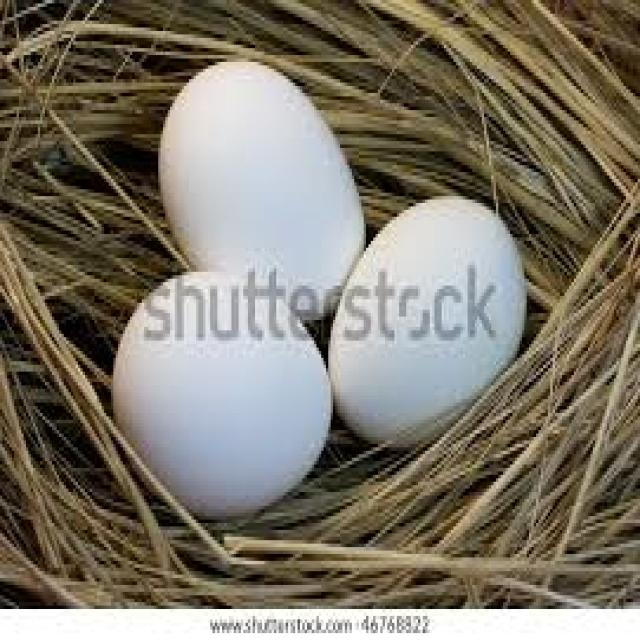White Egg: (156, 52, 364, 304), (115, 278, 334, 512), (331, 185, 530, 422)
